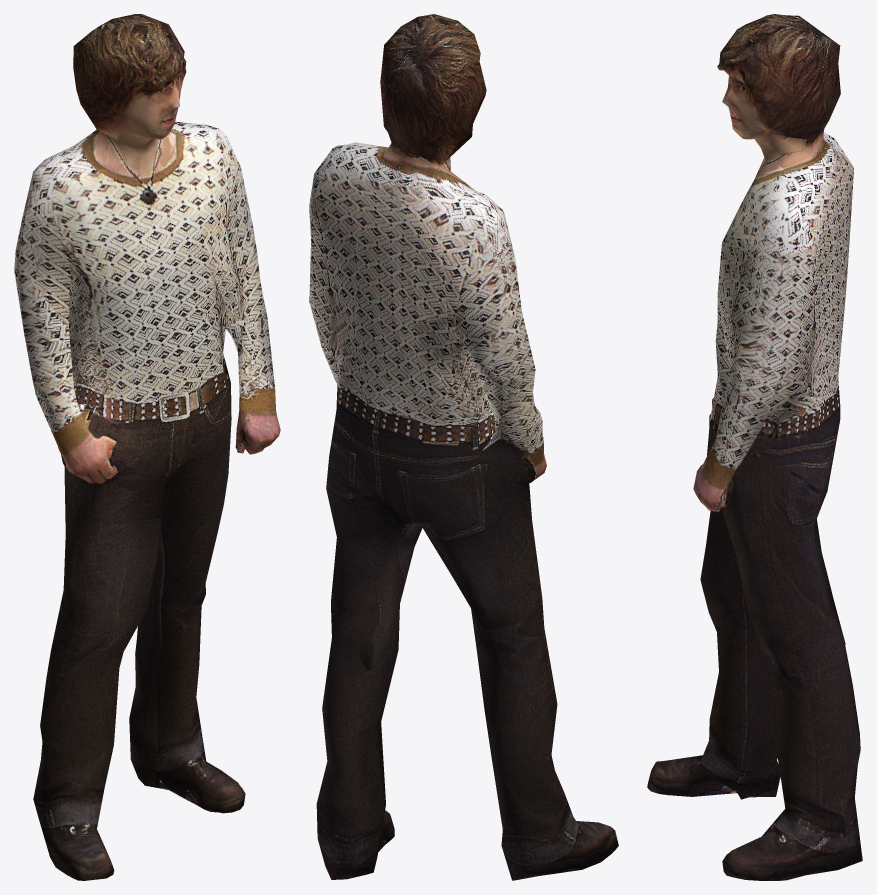
File: Person_2.obj
3 renders of one model, left to right at view 1: azimuth 30°, elevation 25°; view 2: azimuth 150°, elevation 25°; view 3: azimuth 270°, elevation 25°, orthographic. The views are drawn at different scales.
Visible parts, largest first — view 1: Person_2; view 2: Person_2; view 3: Person_2.
Boxes of the visible parts, left/top/right/bottom form: Person_2: left=14, top=14, right=280, bottom=880; Person_2: left=309, top=14, right=618, bottom=880; Person_2: left=647, top=14, right=862, bottom=880.
Size of the model in its own units: 0.5828 by 1.89 by 0.4509.
Materials: 1 (1 with a texture image).
